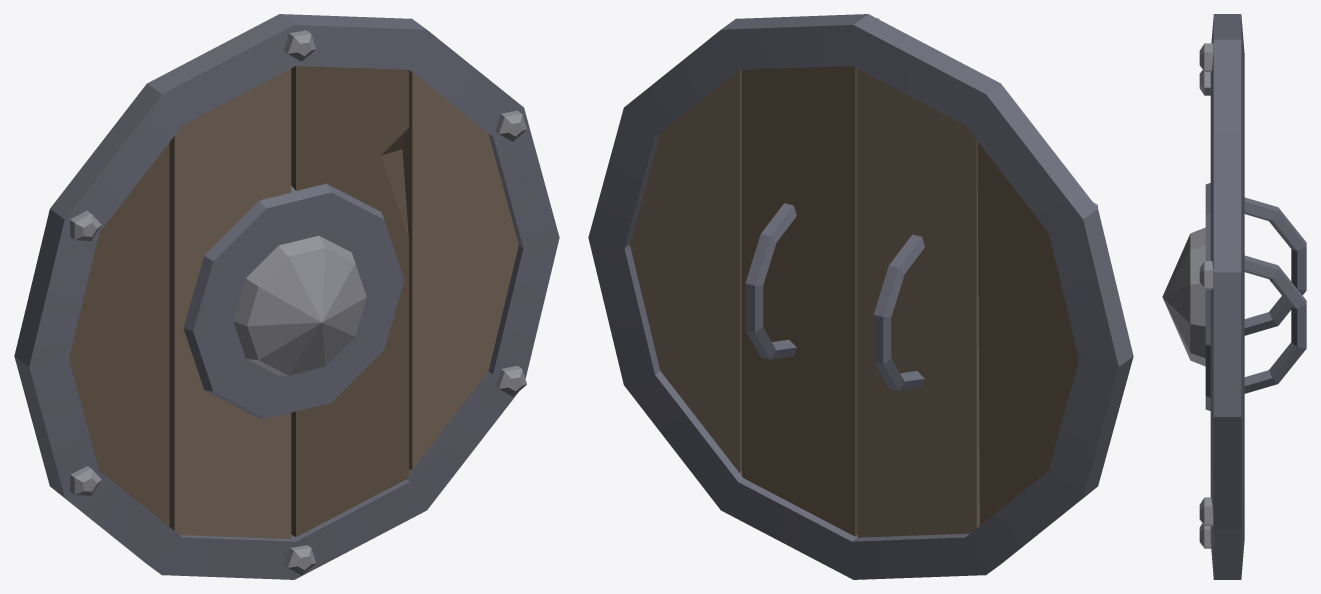
The model's file is _SHIELD_2.fbx.
The picture shows the model from 3 angles, left to right: view 1: azimuth 30°, elevation 25°; view 2: azimuth 150°, elevation 25°; view 3: azimuth 270°, elevation 25°; orthographic projection. The views are drawn at different scales.
Parts seen in each view (by area): view 1: SHIELD_2; view 2: SHIELD_2; view 3: SHIELD_2.
Boxes of the visible parts, x1,y1,x2,y2 form: SHIELD_2: [14, 14, 559, 579]; SHIELD_2: [588, 14, 1133, 579]; SHIELD_2: [1162, 14, 1306, 579].
Bounding box in the file's own units: 93.5 × 93.5 × 23.74.
